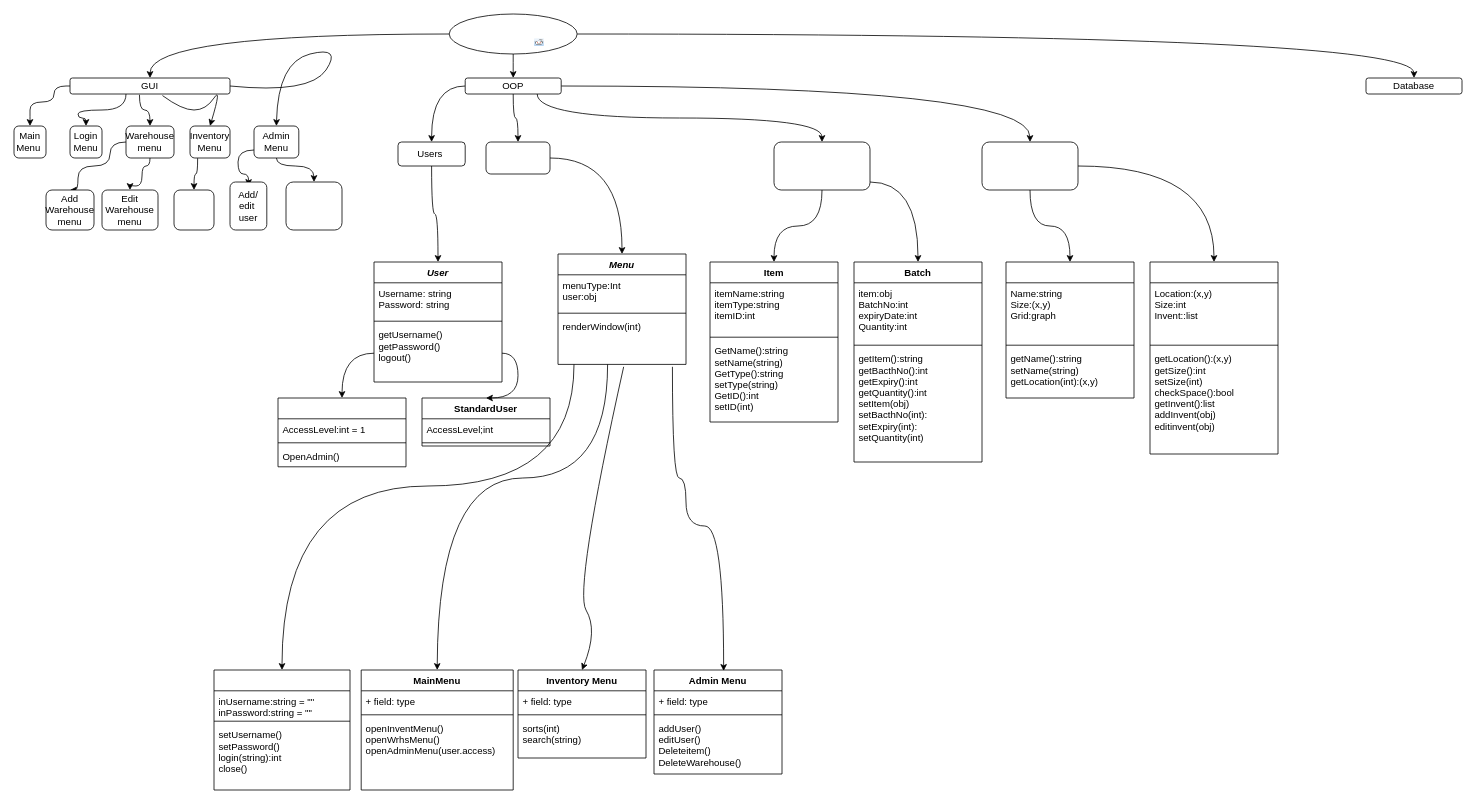
Image size: 1476x806. Some labels were removed from this diagram. The shapes that lost their labels are listed below. From the top down, each one's box as (x1, y1, x2, y2) in pixels, then its label:
(448, 13, 577, 54): Inventory management system
(485, 141, 550, 174): menus
(773, 141, 870, 190): items
(981, 141, 1078, 190): Warehouses
(173, 189, 214, 230): Access/ edit item Menu
(285, 181, 342, 230): Delete item / warehouse
(1005, 261, 1134, 398): Warehouse
(1149, 261, 1278, 454): Shelf
(277, 397, 406, 467): Admin User
(213, 669, 350, 790): LoginMenu
